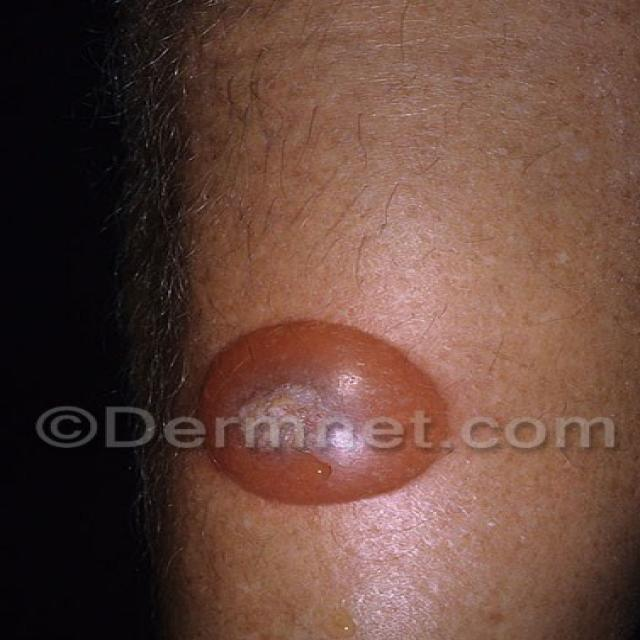Warts: (192, 294, 470, 519)
